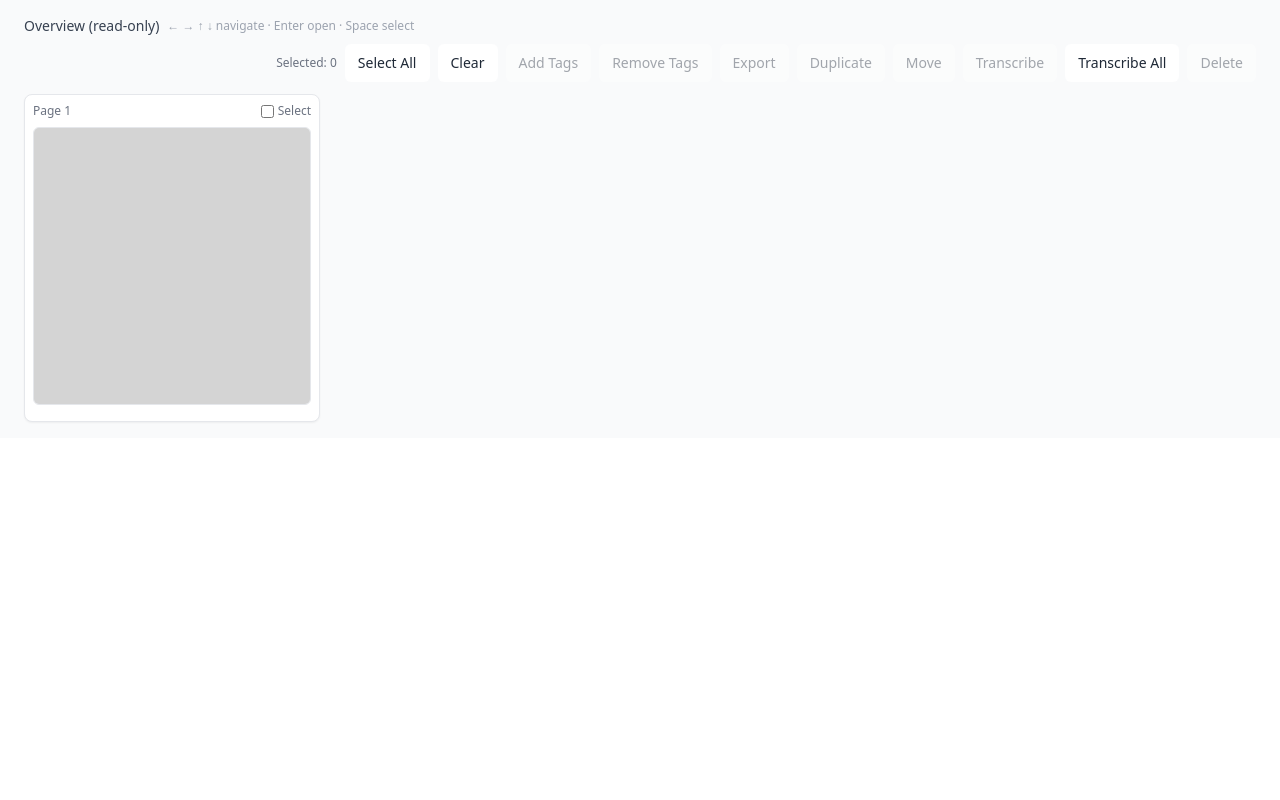
Test case: OverviewView - Tag Dialog › opens Add Tags dialog when Add Tags is clicked
Click the checkbox.
click(267, 111)  # box top-left (261, 104), bottom-right (274, 118)
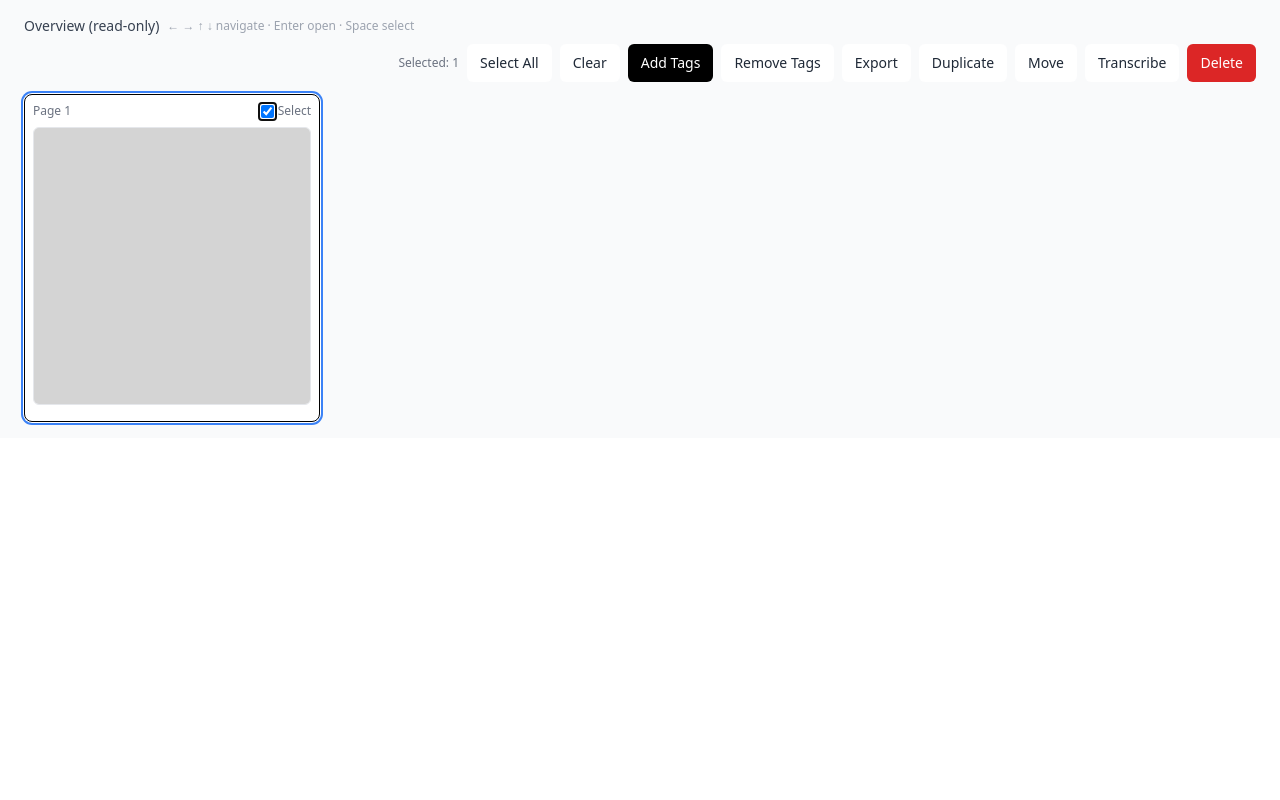
Click the button "Add Tags".
click(670, 63)  # box top-left (628, 44), bottom-right (713, 82)
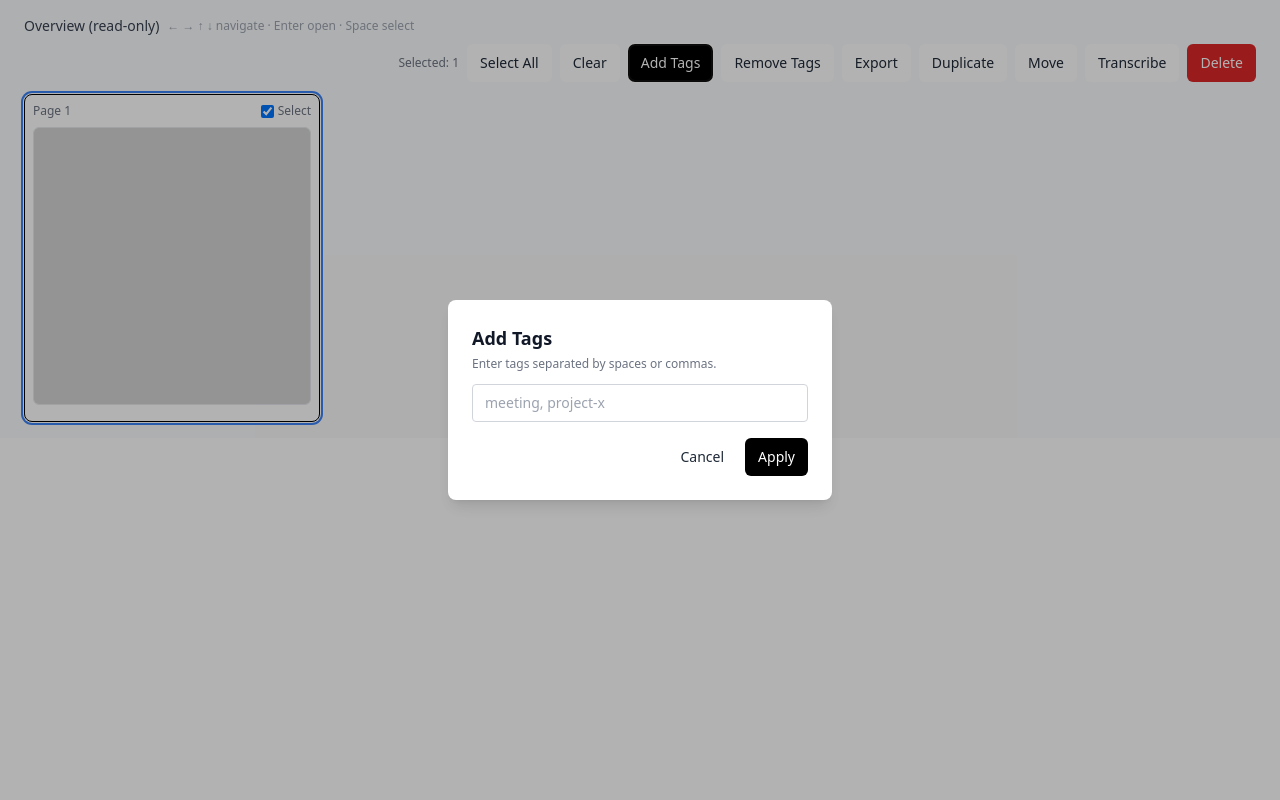
Check: the heading "Add Tags" is shown, box top-left (472, 326), bottom-right (552, 350)
Check: the text "Enter tags separated by spaces or commas." is shown, box top-left (472, 355), bottom-right (716, 372)
